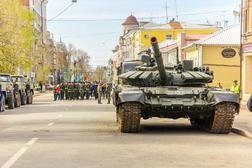t72: (117, 35, 239, 134)
